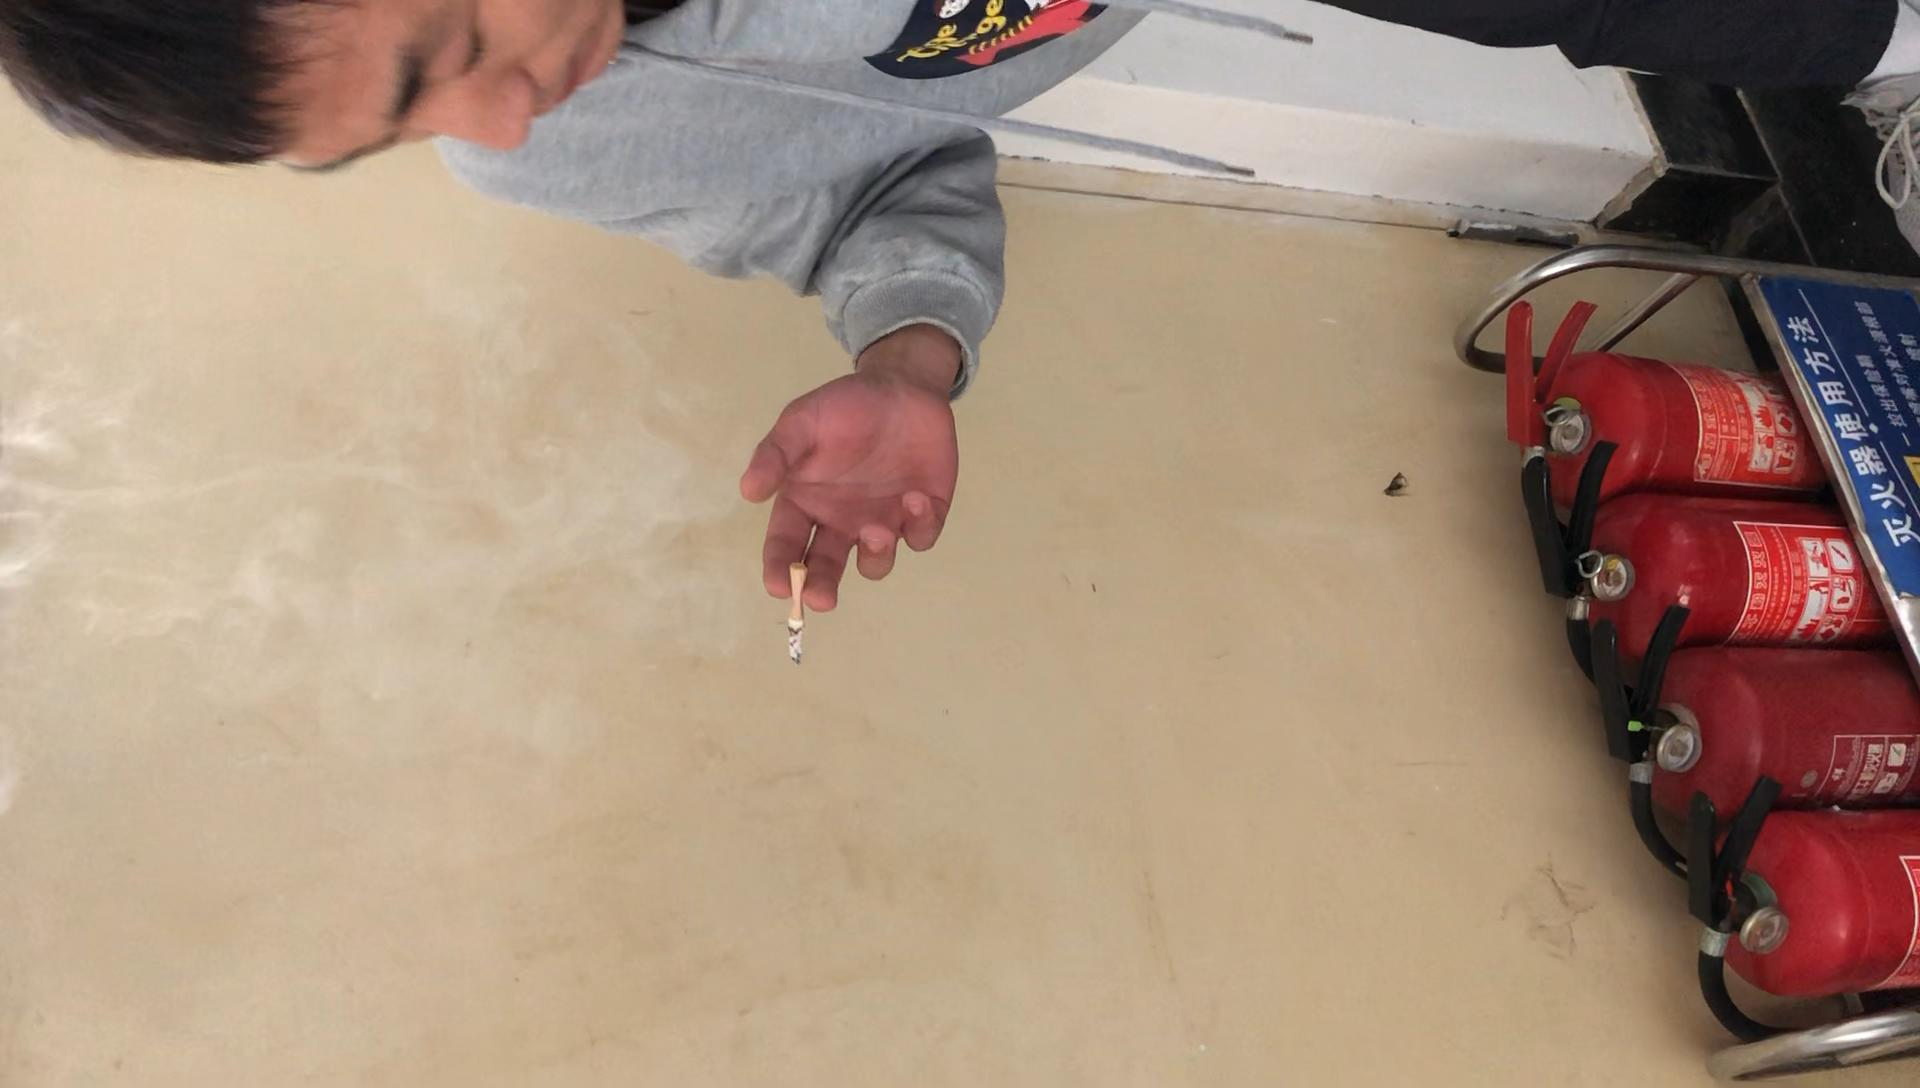yanwu: (16, 375, 616, 655)
